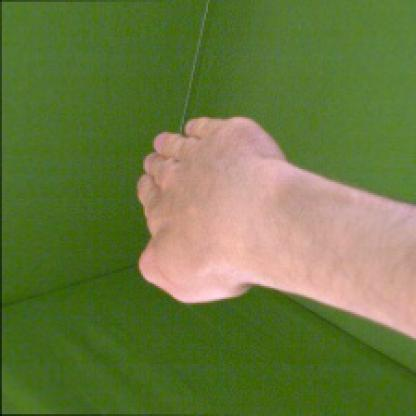Hand: (138, 116, 280, 304)
